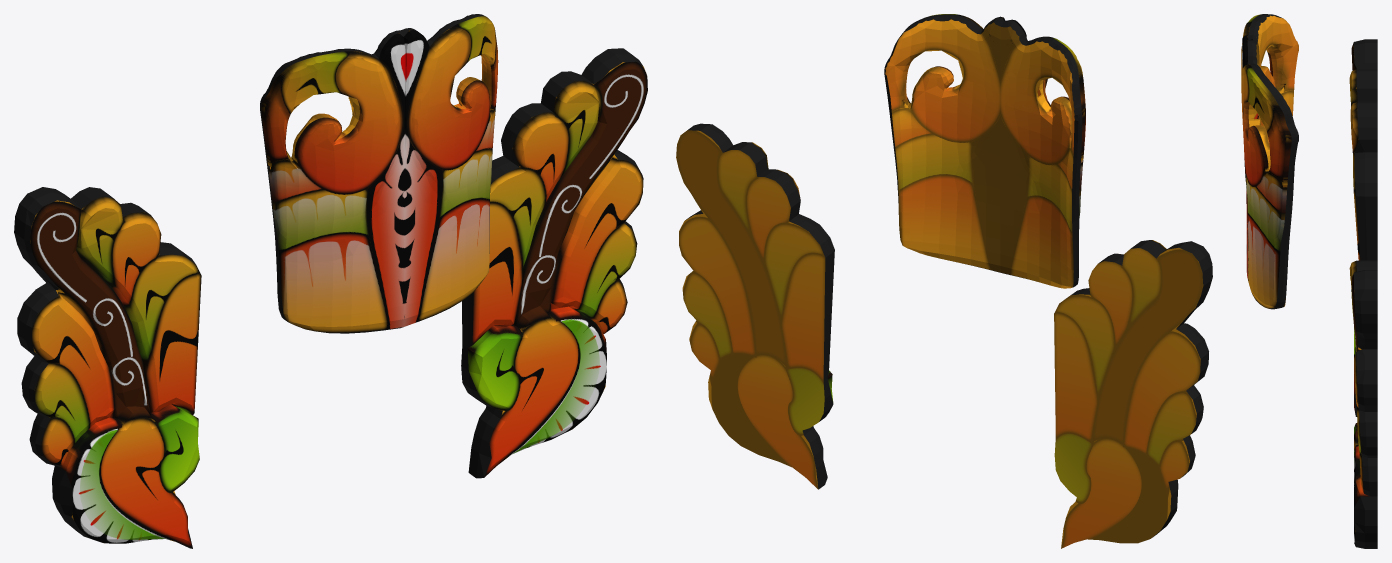
File: guruluhead.fbx
3 views of the same model, side by side, from view 1: azimuth 30°, elevation 25°; view 2: azimuth 150°, elevation 25°; view 3: azimuth 270°, elevation 25° (orthographic). The views are drawn at different scales.
Visible parts, largest first — view 1: Plane.003; view 2: Plane.003; view 3: Plane.003.
Boxes of the visible parts, left/top/right/bottom form: Plane.003: left=14, top=14, right=647, bottom=548; Plane.003: left=676, top=14, right=1212, bottom=548; Plane.003: left=1241, top=14, right=1377, bottom=548.
Size of the model in its own units: 51.95 by 42.54 by 11.96.
